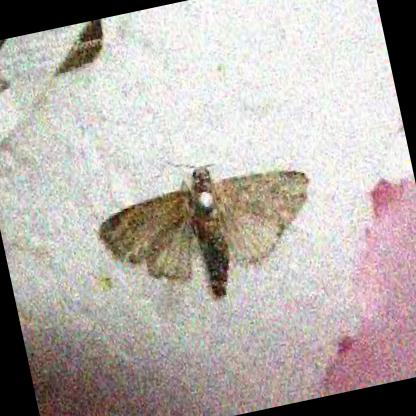Leaf Webber: (100, 161, 311, 306)
